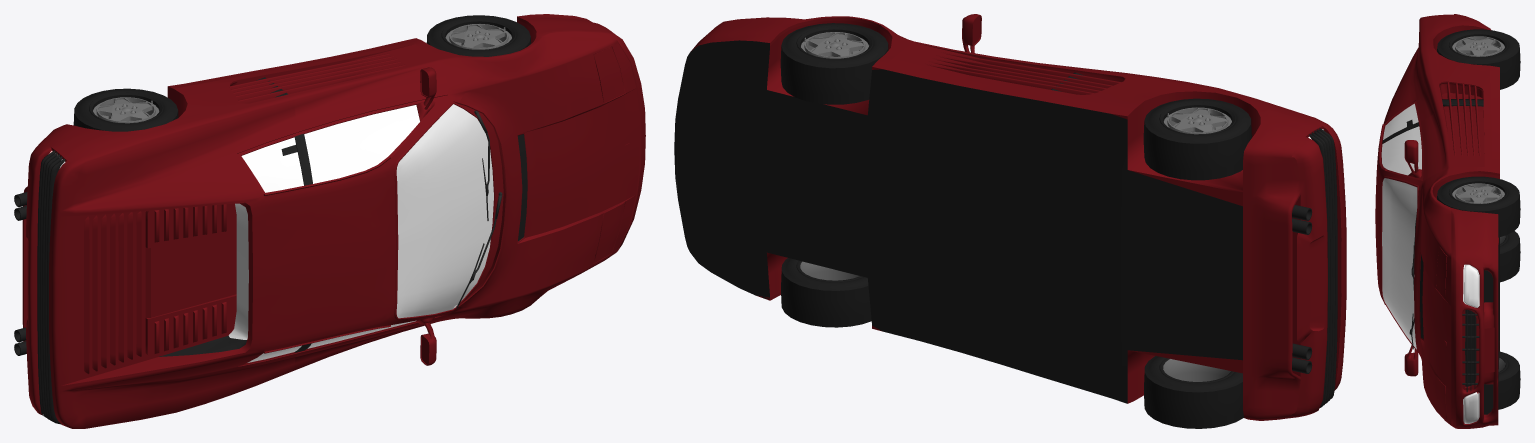
The model's file is car.glb.
3 renders of one model, left to right at view 1: azimuth 30°, elevation 25°; view 2: azimuth 150°, elevation 25°; view 3: azimuth 270°, elevation 25°, orthographic. The views are drawn at different scales.
Parts seen in each view (by area): view 1: Ferrari Testarossa, RL, FL; view 2: Ferrari Testarossa, RL, FL, RR, FR; view 3: Ferrari Testarossa, FL, RL, FR, RR.
Part boxes in pixels (<box>): Ferrari Testarossa: <box>14,14,645,428</box>; RL: <box>73,88,178,131</box>; FL: <box>426,15,531,56</box>; Ferrari Testarossa: <box>674,14,1346,420</box>; RL: <box>1143,98,1251,180</box>; FL: <box>780,23,888,104</box>; RR: <box>1144,356,1243,428</box>; FR: <box>781,258,871,327</box>; Ferrari Testarossa: <box>1375,14,1499,428</box>; FL: <box>1437,176,1520,237</box>; RL: <box>1437,29,1520,89</box>; FR: <box>1498,351,1520,409</box>; RR: <box>1500,231,1520,282</box>.
Size of the model in its own units: 4.45 by 2.02 by 1.14.
